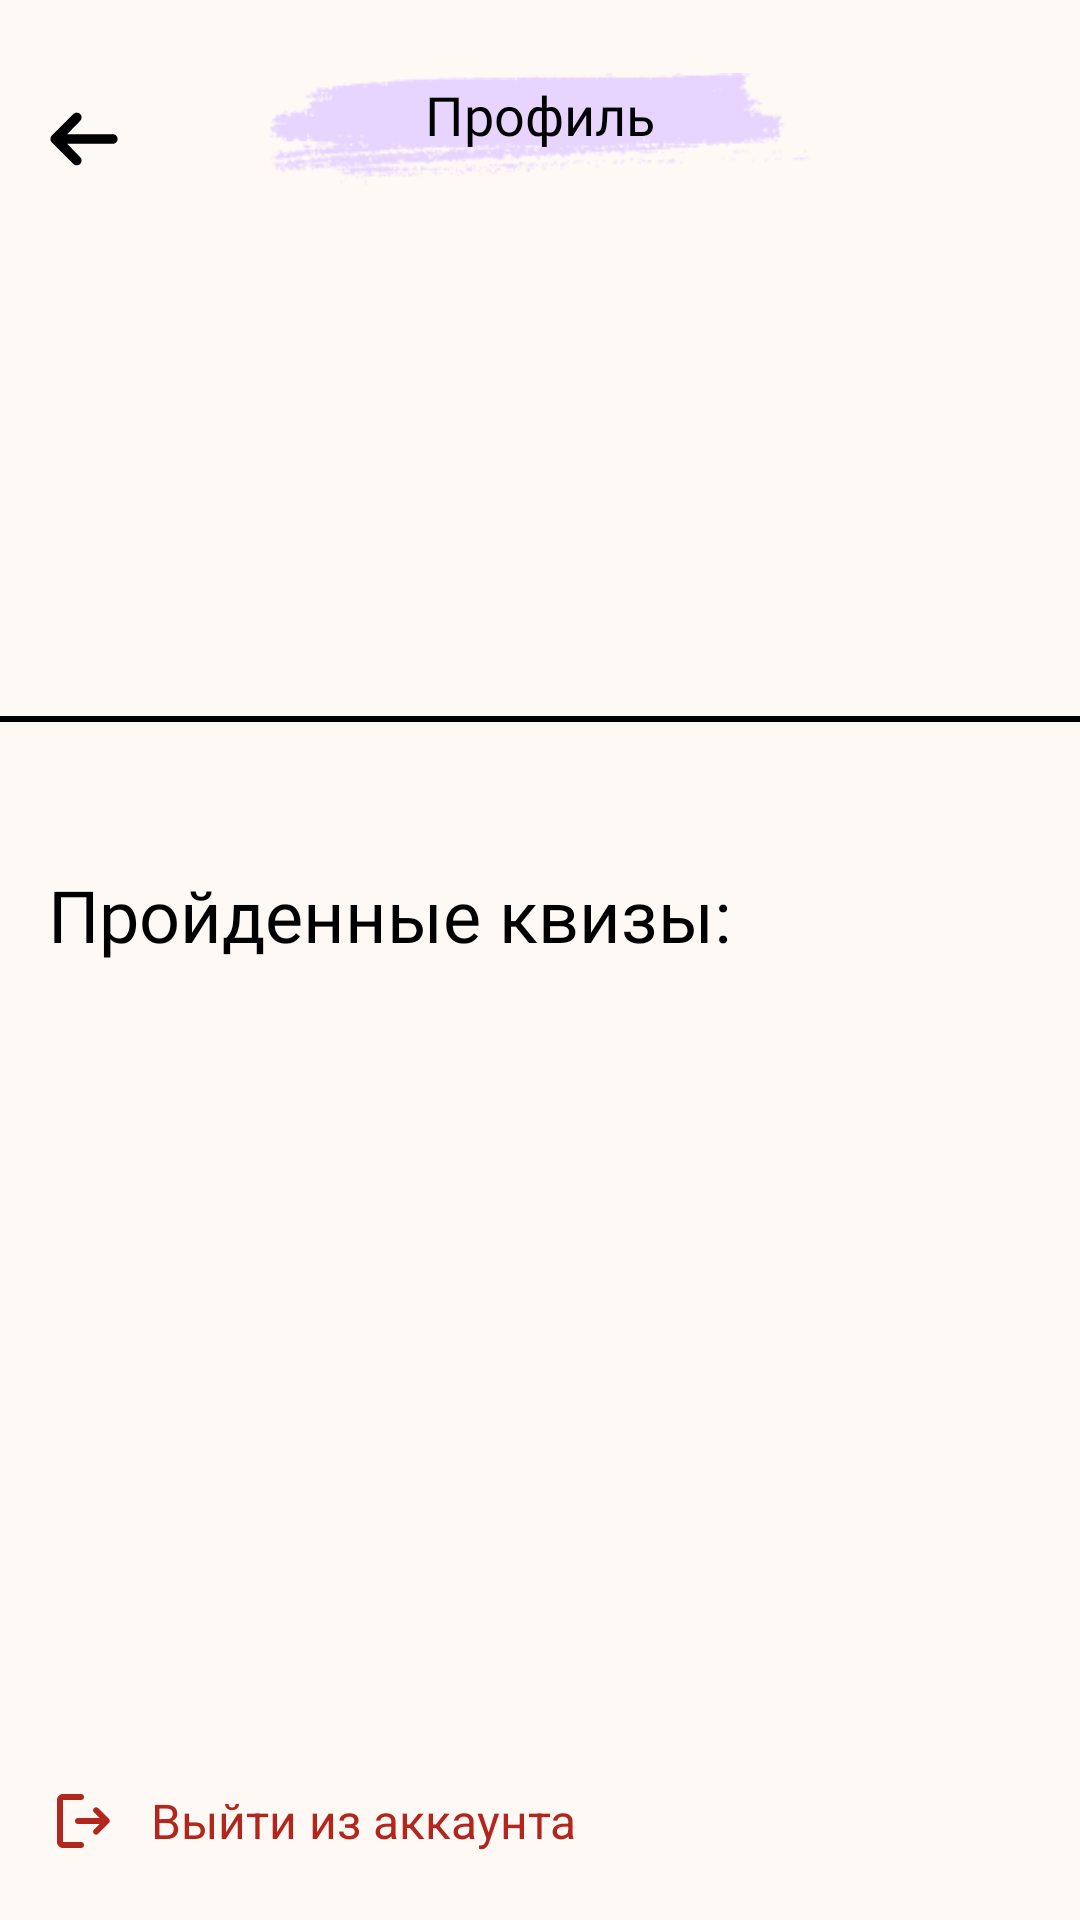

Icons on this 1080×1920 Android screen, each with the point to tap as (x=x, y=y):
maki arrow: (x=84, y=139)
